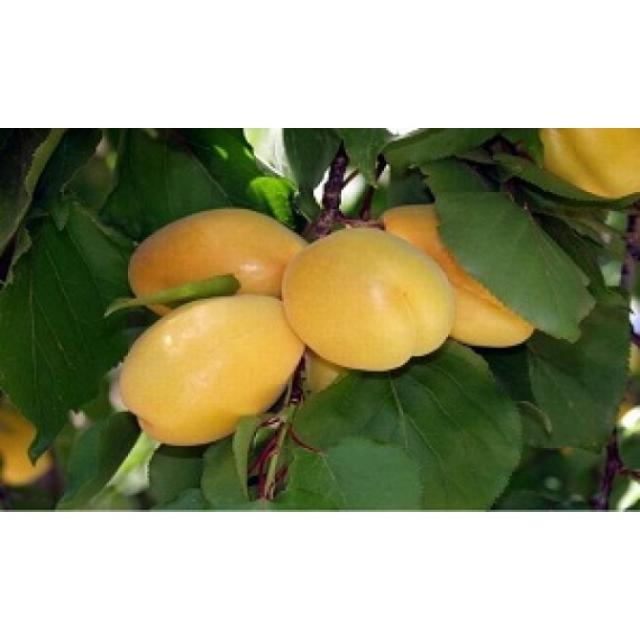kayisi: (145, 226, 274, 339), (286, 241, 435, 333)
yaprak: (326, 378, 503, 514)
